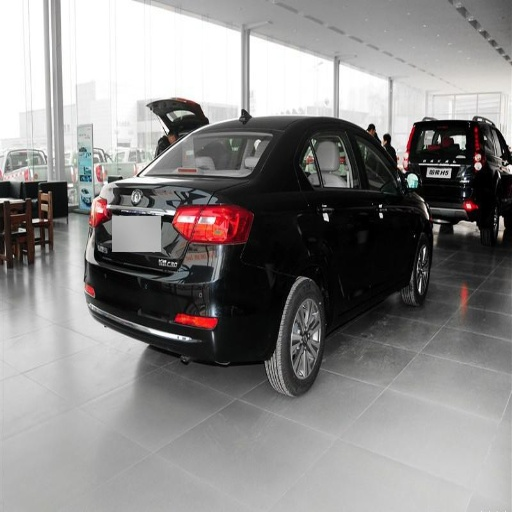back_bumper: (82, 233, 285, 365)
back_right_door: (301, 130, 378, 312)
tailgate: (101, 177, 201, 265)
